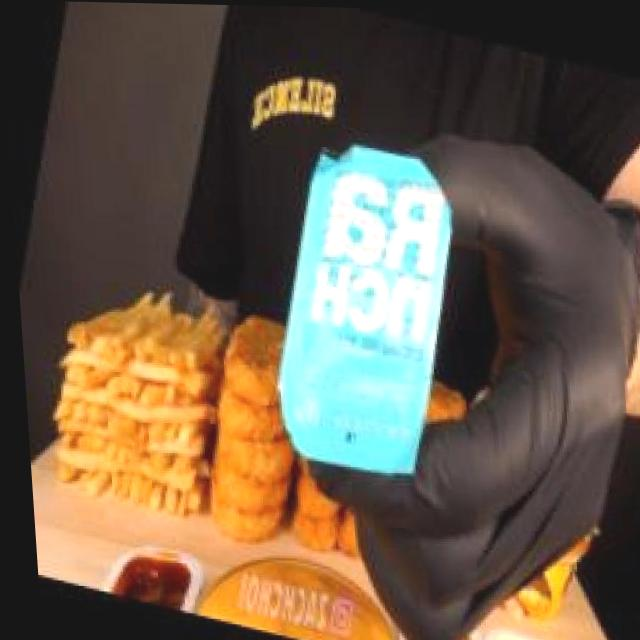Hashbrown: (165, 291, 329, 556)
french fries: (14, 260, 248, 539)
nugget: (259, 414, 388, 569)
